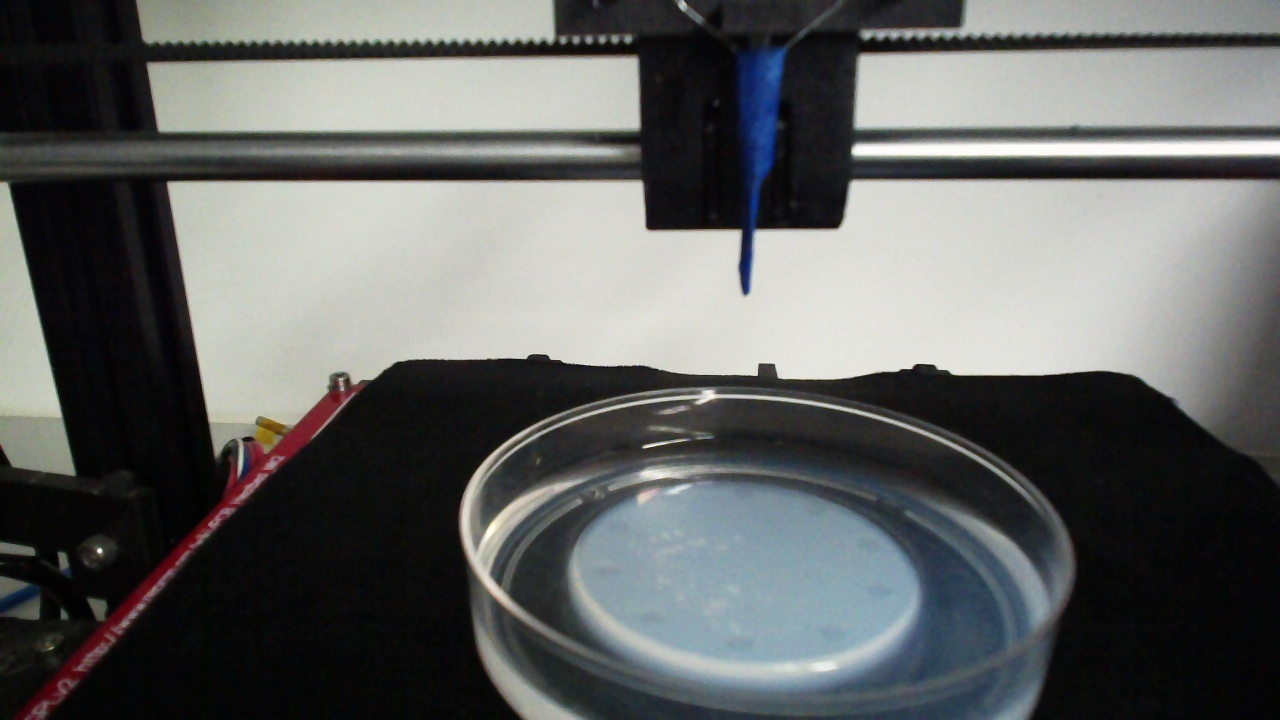groove: (855, 535, 887, 559), (634, 608, 667, 629), (818, 624, 847, 644), (591, 564, 622, 582), (801, 501, 831, 519), (864, 582, 895, 599), (727, 637, 756, 655), (606, 515, 633, 534), (733, 484, 756, 503)
needle: (732, 50, 782, 297)
